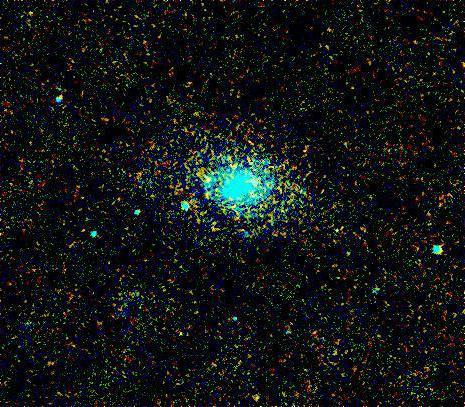star: (238, 384, 268, 407)
